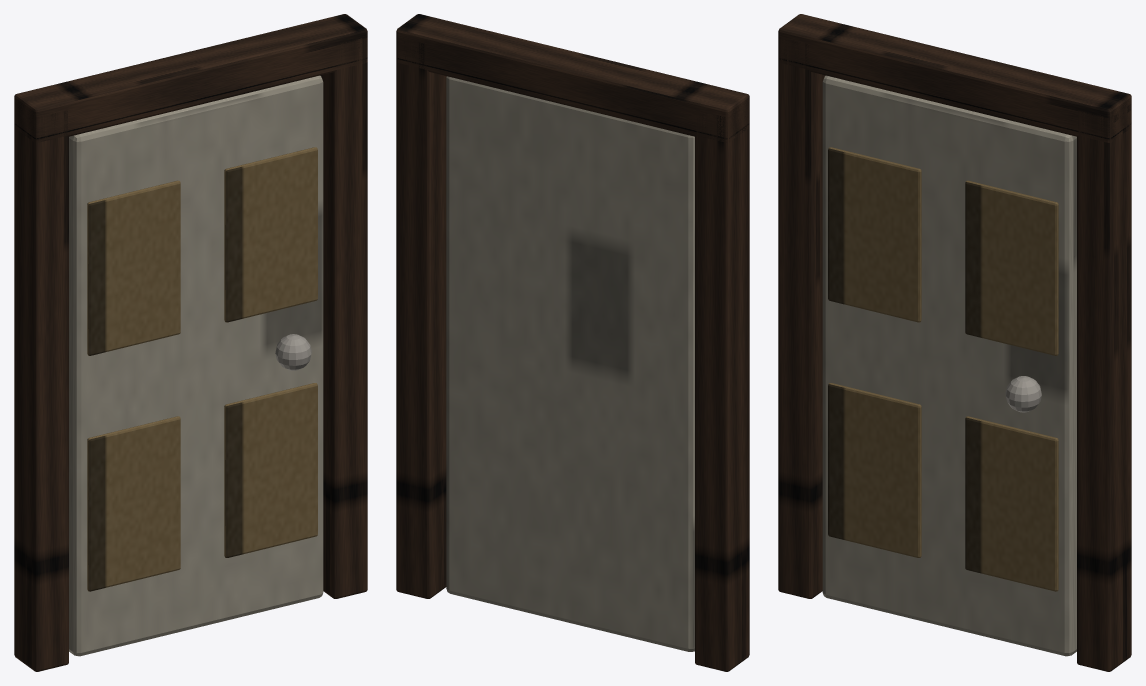
Rendered from basement-stair-door.glb.
The picture shows the model from 3 angles, left to right: view 1: azimuth 30°, elevation 25°; view 2: azimuth 150°, elevation 25°; view 3: azimuth 330°, elevation 25°; orthographic projection.
Visible parts, largest first — view 1: SM_Env_StairDoorSlab, SM_lonely_basement_stair_door_Wood_DarkStained, SM_lonely_basement_stair_door_Paper_Aged, SM_Env_DoorKnob; view 2: SM_Env_StairDoorSlab, SM_lonely_basement_stair_door_Wood_DarkStained; view 3: SM_Env_StairDoorSlab, SM_lonely_basement_stair_door_Wood_DarkStained, SM_lonely_basement_stair_door_Paper_Aged, SM_Env_DoorKnob.
Part boxes in pixels (left/top/right/bottom): SM_Env_StairDoorSlab: left=69, top=75, right=323, bottom=656; SM_lonely_basement_stair_door_Wood_DarkStained: left=14, top=14, right=367, bottom=671; SM_lonely_basement_stair_door_Paper_Aged: left=87, top=147, right=317, bottom=591; SM_Env_DoorKnob: left=275, top=334, right=311, bottom=370; SM_Env_StairDoorSlab: left=446, top=76, right=694, bottom=651; SM_lonely_basement_stair_door_Wood_DarkStained: left=396, top=14, right=749, bottom=671; SM_Env_StairDoorSlab: left=822, top=75, right=1076, bottom=656; SM_lonely_basement_stair_door_Wood_DarkStained: left=778, top=14, right=1131, bottom=671; SM_lonely_basement_stair_door_Paper_Aged: left=828, top=147, right=1058, bottom=591; SM_Env_DoorKnob: left=1005, top=376, right=1041, bottom=412.
Size of the model in its own units: 1.36 by 2.2 by 0.265.
Materials: 4 (3 with a texture image).
